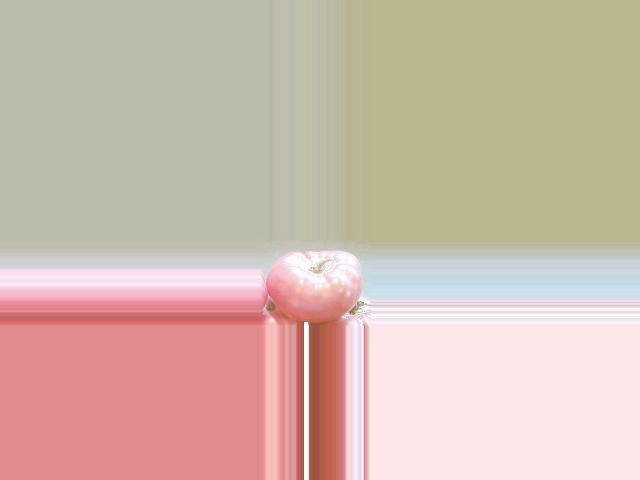tomato: (264, 250, 362, 322)
